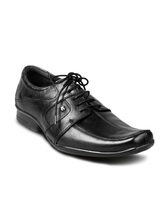shoesd: (10, 63, 156, 158)
